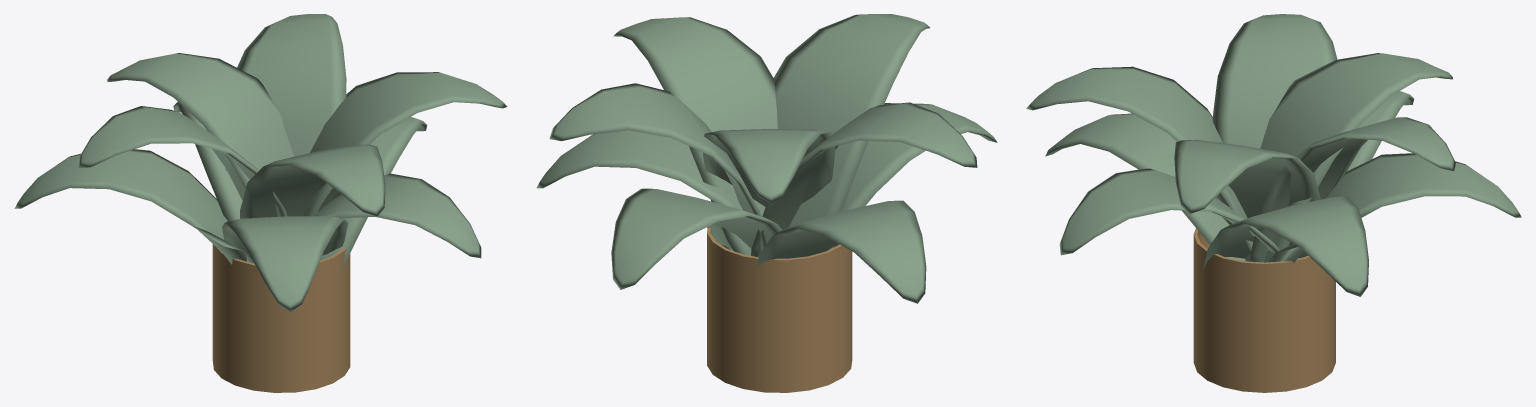
Rendered from plant.fbx.
The picture shows the model from 3 angles, left to right: view 1: azimuth 30°, elevation 25°; view 2: azimuth 150°, elevation 25°; view 3: azimuth 270°, elevation 25°; orthographic projection. The views are drawn at different scales.
Parts seen in each view (by area): view 1: plant; view 2: plant; view 3: plant.
Boxes of the visible parts, x1,y1,x2,y2 form: plant: [14, 14, 507, 392]; plant: [536, 14, 997, 392]; plant: [1026, 14, 1521, 392].
Size of the model in its own units: 1.29 by 0.8639 by 1.38.
